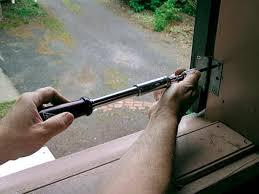screwdriver: (40, 60, 221, 122)
